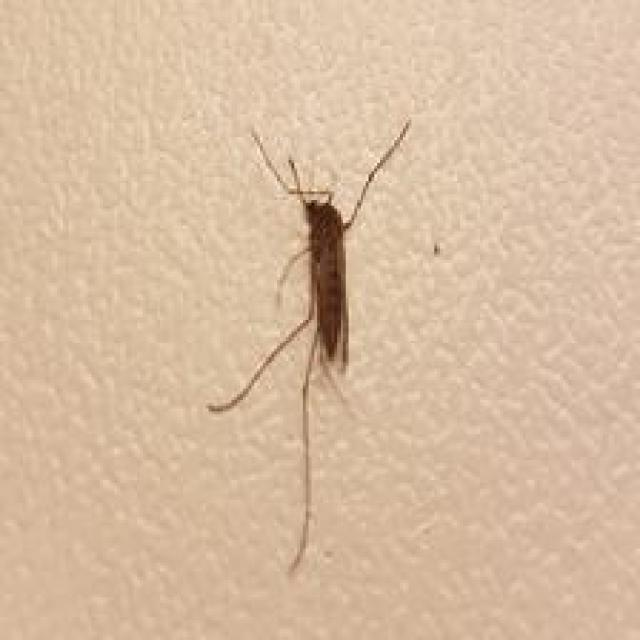Culex: (204, 115, 413, 576)
